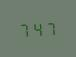four: (32, 20, 44, 36)
seven: (18, 21, 30, 37), (45, 19, 57, 35)
